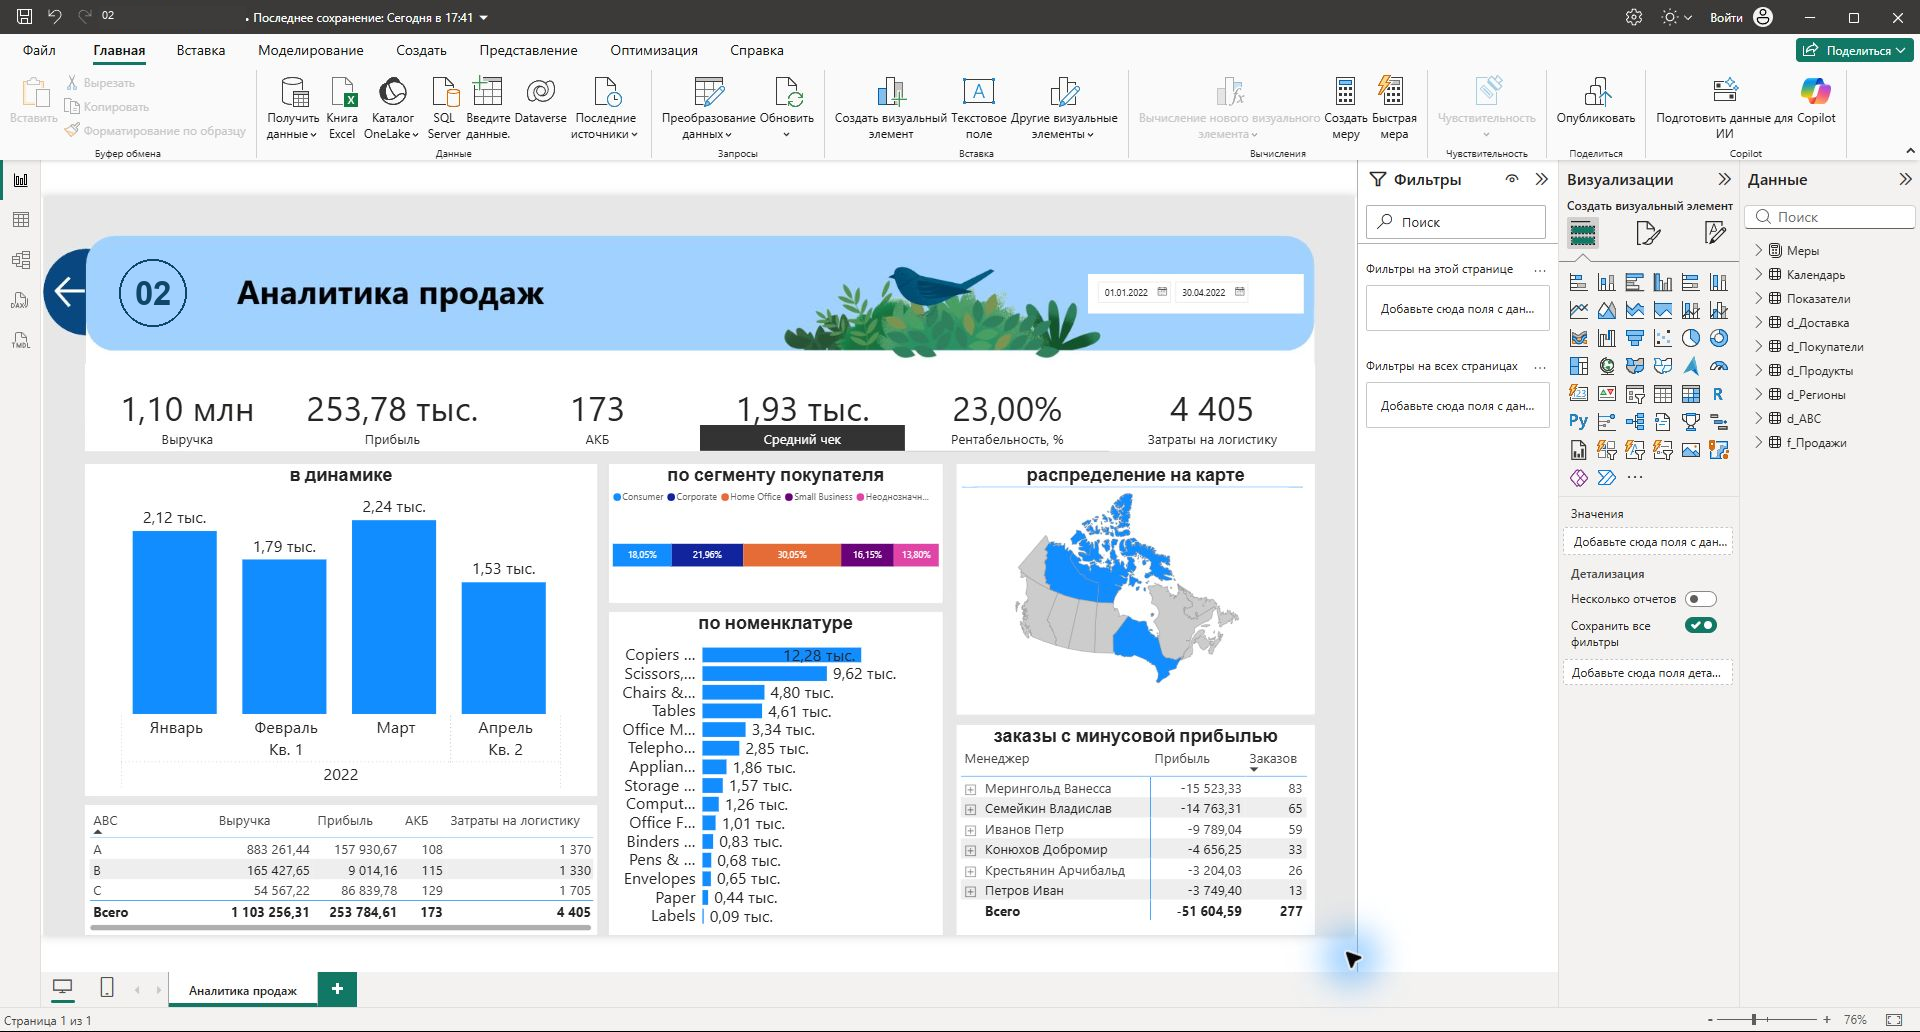

Layout of this report page (visuals, bound fields, positions):
{"tool":"powerbi","page":{"name":"Аналитика продаж","canvas":[1732,971],"ordinal":0},"visuals":[{"type":"textbox","box":[58,211,1618,123],"z":-10},{"type":"clusteredColumnChart","title":"в динамике","fields":{"Category":["Календарь.Год","Календарь.Квартал_текст","Календарь.Месяц_текст"],"Y":["Меры.Показатель для графиков"]},"box":[58,352,674,437],"z":0},{"type":"hundredPercentStackedBarChart","title":"по сегменту покупателя","fields":{"Series":["d_Покупатели.Segment"],"Y":["Меры.Выбранный показатель"]},"box":[748,352,439,182],"z":0},{"type":"clusteredBarChart","title":"по номенклатуре","fields":{"Category":["d_Продукты.Category","d_Продукты.Subcategory","d_Продукты.Product"],"Y":["Меры.Показатель для графиков"]},"box":[748,546,439,425],"z":0},{"type":"pivotTable","title":"заказы с минусовой прибылью","fields":{"Rows":["d_Регионы.Manager","f_Продажи.Order_ID"],"Values":["Меры.Прибыль убыточных заказов","Меры.Убыточные заказы"]},"box":[1205,695,471,276],"z":0},{"type":"tableEx","fields":{"Values":["d_ABC.ABC","Меры.Выручка ABC","Меры.Прибыль ABC","Меры.АКБ ABC","Меры.Логистика ABC"]},"box":[58,800,674,171],"z":0},{"type":"card","fields":{"Values":["Меры.Выручка"]},"box":[58,220,269.7,114],"z":1},{"type":"card","fields":{"Values":["Меры.Прибыль"]},"box":[327.7,220,269.7,114],"z":2},{"type":"tableEx","title":"распределение на карте","fields":{"Values":["Меры.Карта регионов"]},"box":[1205,352,471,328],"z":2},{"type":"card","fields":{"Values":["Меры.АКБ"]},"box":[597.3,220,269.7,114],"z":3},{"type":"card","fields":{"Values":["Меры.Средний чек"]},"box":[867,220,269.7,114],"z":4},{"type":"card","fields":{"Values":["Меры.Рентабельность"]},"box":[1136.7,220,269.7,114],"z":5},{"type":"card","fields":{"Values":["Меры.Затраты на логистику"]},"box":[1406.3,220,269.7,114],"z":6},{"type":"slicer","fields":{"Values":["Календарь.Date"]},"box":[1378,101,284,52],"z":20},{"type":"actionButton","box":[58,300,269.7,34],"z":40},{"type":"actionButton","box":[327.7,300,269.7,34],"z":41},{"type":"actionButton","box":[597.3,300,269.7,34],"z":42},{"type":"actionButton","box":[867,300,269.7,34],"z":43},{"type":"actionButton","box":[1136.7,300,269.7,34],"z":44},{"type":"actionButton","box":[1406.3,300,269.7,34],"z":45},{"type":"advancedSlicerVisual","fields":{"Values":["Показатели.Показатель"]},"box":[58,220,1618,114],"z":100}]}

Visuals, with their boxes on the page's 1732x971 design canvas (x1, y1, x2, y2). These are canvas units, not pixel positions in the 1920x1032 screenshot, which may show the page scaled, cropped or inside an application window:
textbox: region(58, 211, 1676, 334)
"в динамике" clusteredColumnChart: region(58, 352, 732, 789)
"по сегменту покупателя" hundredPercentStackedBarChart: region(748, 352, 1187, 534)
"по номенклатуре" clusteredBarChart: region(748, 546, 1187, 971)
"заказы с минусовой прибылью" pivotTable: region(1205, 695, 1676, 971)
tableEx - d_ABC.ABC x Меры.Выручка ABC: region(58, 800, 732, 971)
card - Меры.Выручка: region(58, 220, 328, 334)
card - Меры.Прибыль: region(328, 220, 597, 334)
"распределение на карте" tableEx: region(1205, 352, 1676, 680)
card - Меры.АКБ: region(597, 220, 867, 334)
card - Меры.Средний чек: region(867, 220, 1137, 334)
card - Меры.Рентабельность: region(1137, 220, 1406, 334)
card - Меры.Затраты на логистику: region(1406, 220, 1676, 334)
slicer - Календарь.Date: region(1378, 101, 1662, 153)
actionButton: region(58, 300, 328, 334)
actionButton: region(328, 300, 597, 334)
actionButton: region(597, 300, 867, 334)
actionButton: region(867, 300, 1137, 334)
actionButton: region(1137, 300, 1406, 334)
actionButton: region(1406, 300, 1676, 334)
advancedSlicerVisual - Показатели.Показатель: region(58, 220, 1676, 334)
